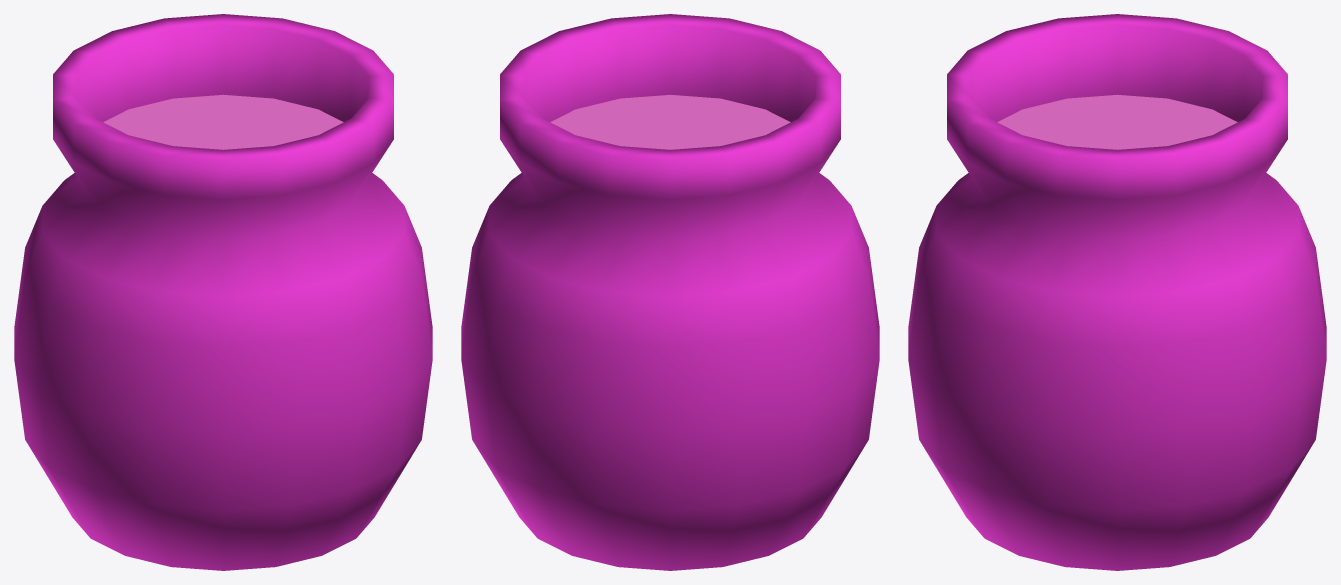
File: 물통닫은거1.fbx
The picture shows the model from 3 angles, left to right: view 1: azimuth 30°, elevation 25°; view 2: azimuth 150°, elevation 25°; view 3: azimuth 270°, elevation 25°; orthographic projection.
Visible parts, largest first — view 1: 물통1_low; view 2: 물통1_low; view 3: 물통1_low.
Boxes of the visible parts, left/top/right/bottom form: 물통1_low: left=14, top=14, right=432, bottom=570; 물통1_low: left=461, top=14, right=879, bottom=570; 물통1_low: left=908, top=14, right=1326, bottom=570.
Size of the model in its own units: 58.36 by 63.48 by 57.47.
